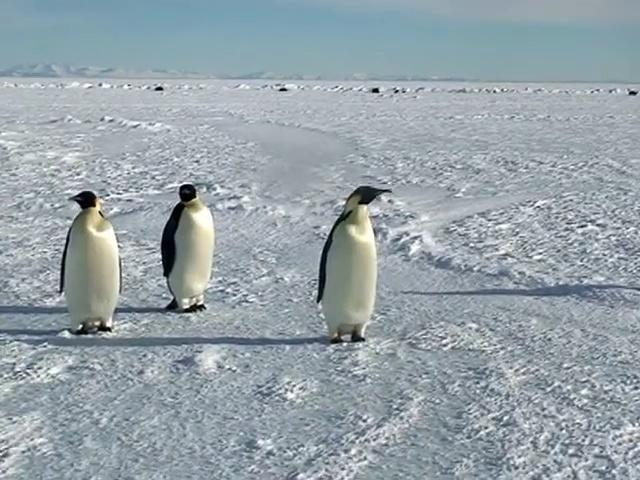animal: (317, 186, 390, 342)
